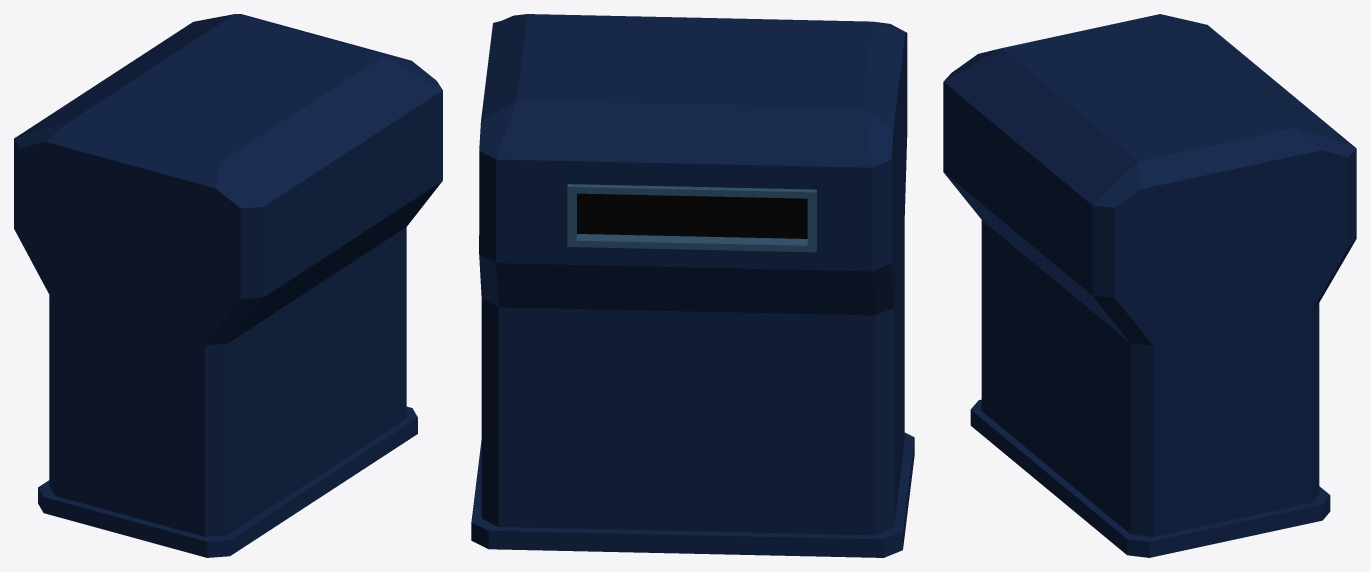
Rendered from Recycle Bin Blue.fbx.
3 renders of one model, left to right at view 1: azimuth 30°, elevation 25°; view 2: azimuth 150°, elevation 25°; view 3: azimuth 270°, elevation 25°, orthographic. The views are drawn at different scales.
Visible parts, largest first — view 1: Recycle Bin Blue; view 2: Recycle Bin Blue; view 3: Recycle Bin Blue.
Part boxes in pixels (left/top/right/bottom): Recycle Bin Blue: left=14, top=14, right=442, bottom=557; Recycle Bin Blue: left=471, top=14, right=914, bottom=557; Recycle Bin Blue: left=943, top=14, right=1356, bottom=557.
Bounding box in the file's own units: 282 × 266 × 270.
